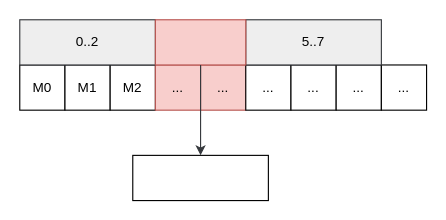
Image size: 446x220. Some labels were removed from this diagram. The centre of each missing label's shape, as x and y in pixels:
Cost = distance * atoms_per_molecule: [200,177]
Gap 0..2: [200,42]
